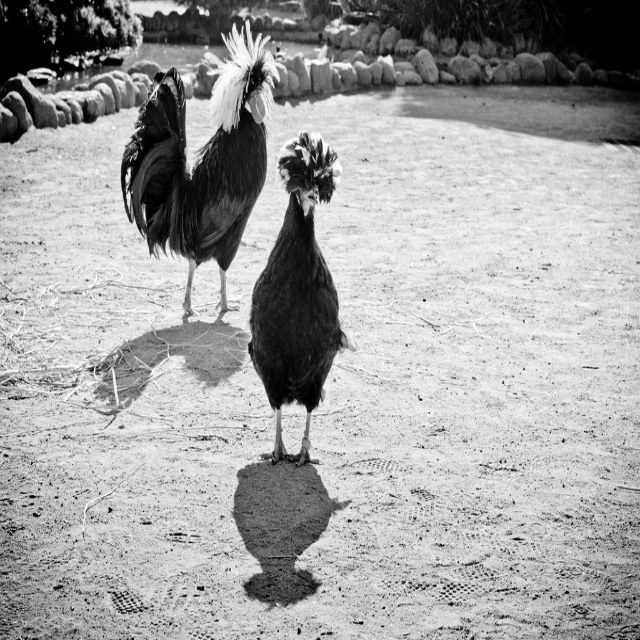Chicken: (110, 15, 288, 319), (242, 140, 347, 474)
